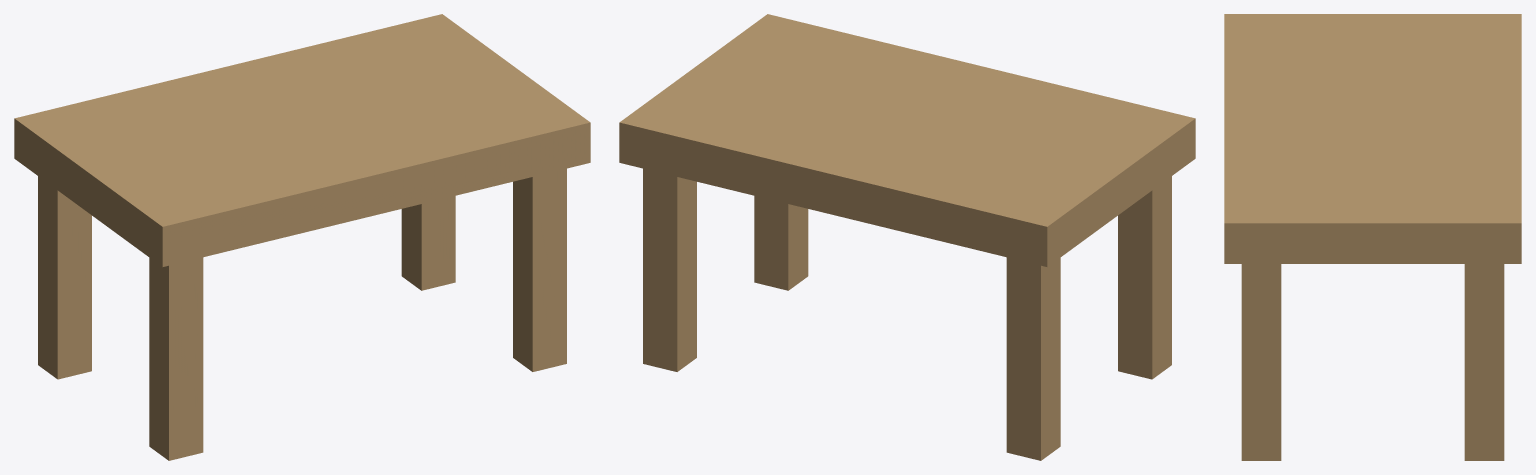
Rendered from table.glb.
The picture shows the model from 3 angles, left to right: view 1: azimuth 30°, elevation 25°; view 2: azimuth 150°, elevation 25°; view 3: azimuth 270°, elevation 25°; orthographic projection.
Visible parts, largest first — view 1: table_top, table_leg_0, table_leg_1, table_leg_2, table_leg_3; view 2: table_top, table_leg_2, table_leg_3, table_leg_0, table_leg_1; view 3: table_top, table_leg_1, table_leg_3.
Boxes of the visible parts, x1,y1,x2,y2 form: table_top: (14,14,590,266); table_leg_0: (149,257,203,460); table_leg_1: (513,168,566,371); table_leg_2: (38,176,91,379); table_leg_3: (401,196,455,290); table_top: (619,14,1195,266); table_leg_2: (1006,257,1060,460); table_leg_3: (643,168,696,371); table_leg_0: (1118,176,1171,379); table_leg_1: (754,196,808,290); table_top: (1224,14,1521,263); table_leg_1: (1241,264,1281,460); table_leg_3: (1464,264,1504,460).
Bounding box in the file's own units: 2 × 1.09 × 1.2.
